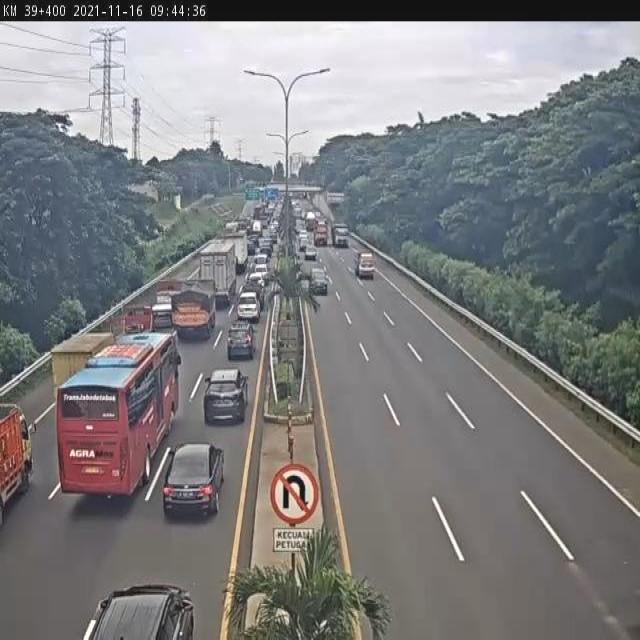Bus: (55, 326, 182, 505)
Car: (88, 582, 197, 640), (162, 442, 225, 518), (202, 368, 248, 425), (226, 321, 256, 361), (236, 292, 262, 324), (247, 272, 268, 298), (309, 266, 328, 294), (253, 262, 270, 279), (304, 243, 318, 261), (259, 242, 274, 256), (298, 236, 311, 252), (246, 238, 256, 257), (249, 234, 260, 248), (297, 228, 308, 239)
Truck: (0, 400, 39, 526), (49, 330, 115, 404), (167, 277, 220, 342), (195, 241, 237, 306), (150, 275, 186, 326), (118, 302, 155, 338), (222, 230, 248, 274), (354, 249, 376, 279), (330, 222, 351, 249), (313, 221, 329, 247), (252, 219, 263, 238)
